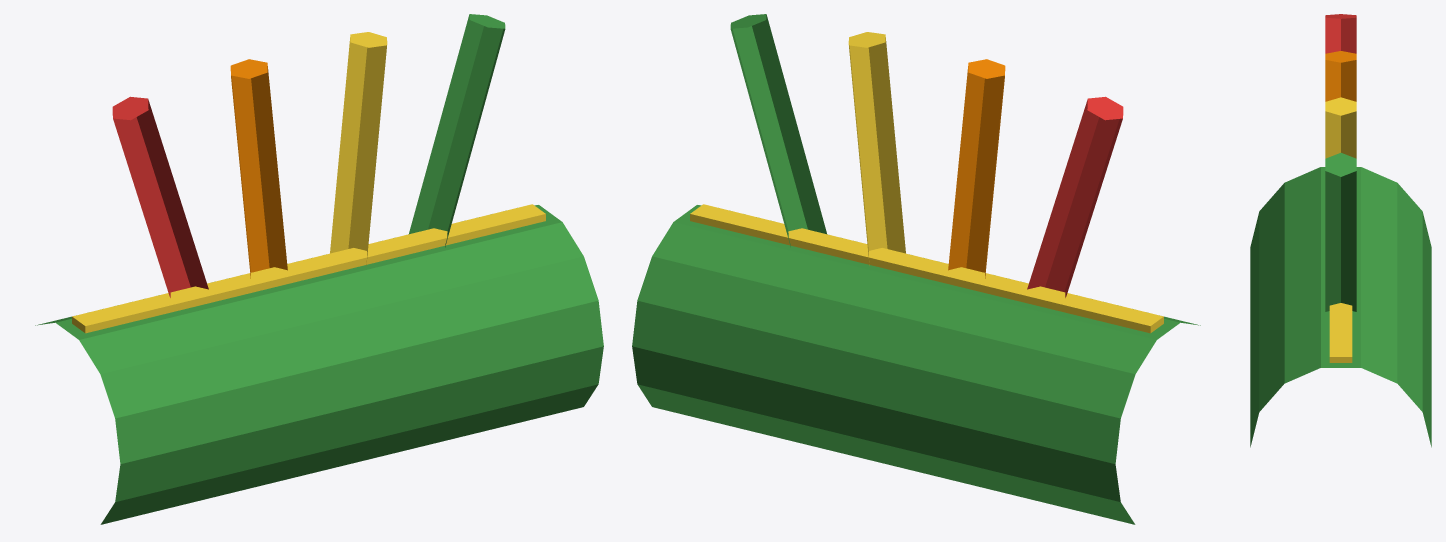
The model's file is pennfodral.glb.
3 renders of one model, left to right at view 1: azimuth 30°, elevation 25°; view 2: azimuth 150°, elevation 25°; view 3: azimuth 270°, elevation 25°, orthographic. The views are drawn at different scales.
Parts seen in each view (by area): view 1: pennfodral; view 2: pennfodral; view 3: pennfodral.
Boxes of the visible parts, x1,y1,x2,y2 form: pennfodral: (35, 14, 603, 524); pennfodral: (632, 14, 1200, 524); pennfodral: (1250, 14, 1431, 447).
Bounding box in the file's own units: 0.42 × 0.3385 × 0.16.
